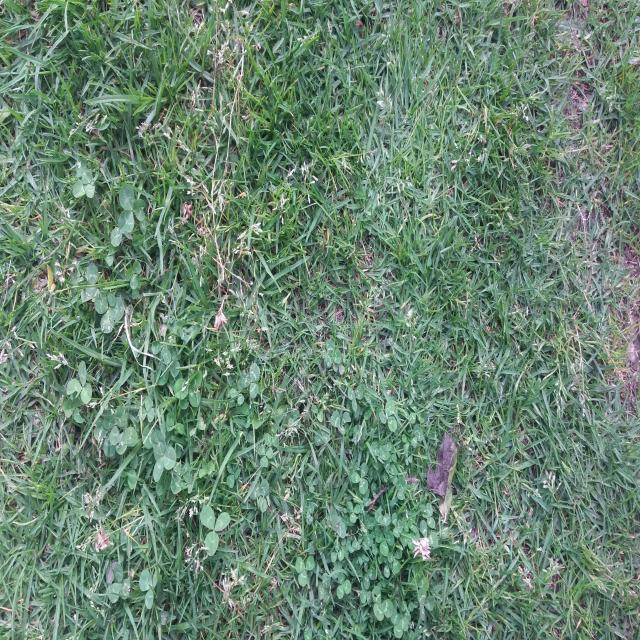Four Leaf Clover: (72, 158, 99, 198)
